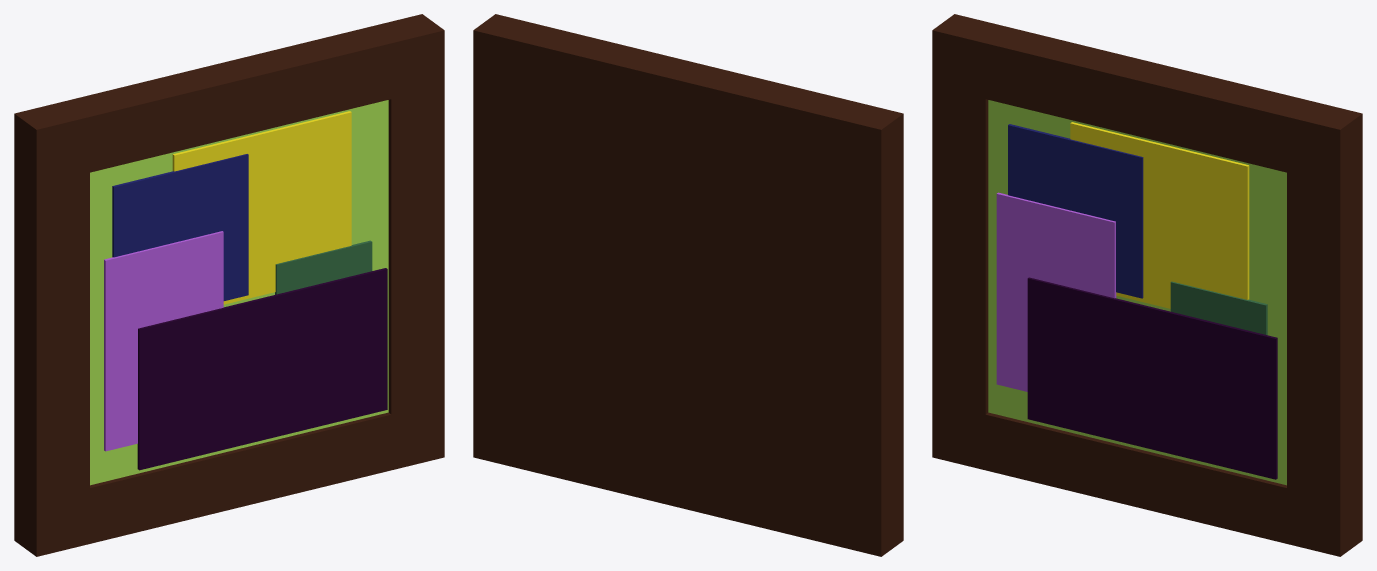
The model's file is Pintura_Quadrats_1.fbx.
The picture shows the model from 3 angles, left to right: view 1: azimuth 30°, elevation 25°; view 2: azimuth 150°, elevation 25°; view 3: azimuth 330°, elevation 25°; orthographic projection.
Visible parts, largest first — view 1: Marc, Quadrat.003, Quadrat.004, Base, Quadrat.001, Quadrat, Quadrat.002; view 2: Marc; view 3: Marc, Quadrat.003, Quadrat.004, Base, Quadrat.001, Quadrat, Quadrat.002.
Boxes of the visible parts, x1,y1,x2,y2 form: Marc: (14, 14, 444, 556); Quadrat.003: (137, 268, 387, 470); Quadrat.004: (172, 111, 351, 304); Base: (90, 100, 388, 485); Quadrat.001: (104, 231, 223, 451); Quadrat: (112, 154, 248, 300); Quadrat.002: (275, 240, 372, 294); Marc: (473, 14, 903, 556); Marc: (932, 14, 1362, 556); Quadrat.003: (1027, 277, 1277, 479); Quadrat.004: (1070, 122, 1249, 308); Base: (988, 100, 1286, 485); Quadrat.001: (996, 192, 1116, 391); Quadrat: (1008, 124, 1143, 298); Quadrat.002: (1170, 281, 1267, 335).
Size of the model in its own units: 271 by 271 by 29.95.
